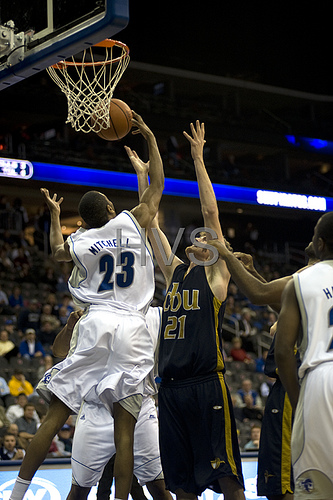basketball: (91, 98, 132, 141)
